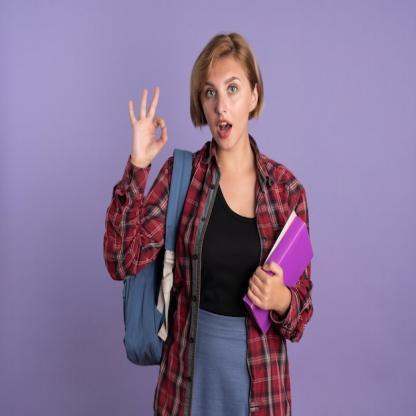ok: (128, 82, 170, 167)
